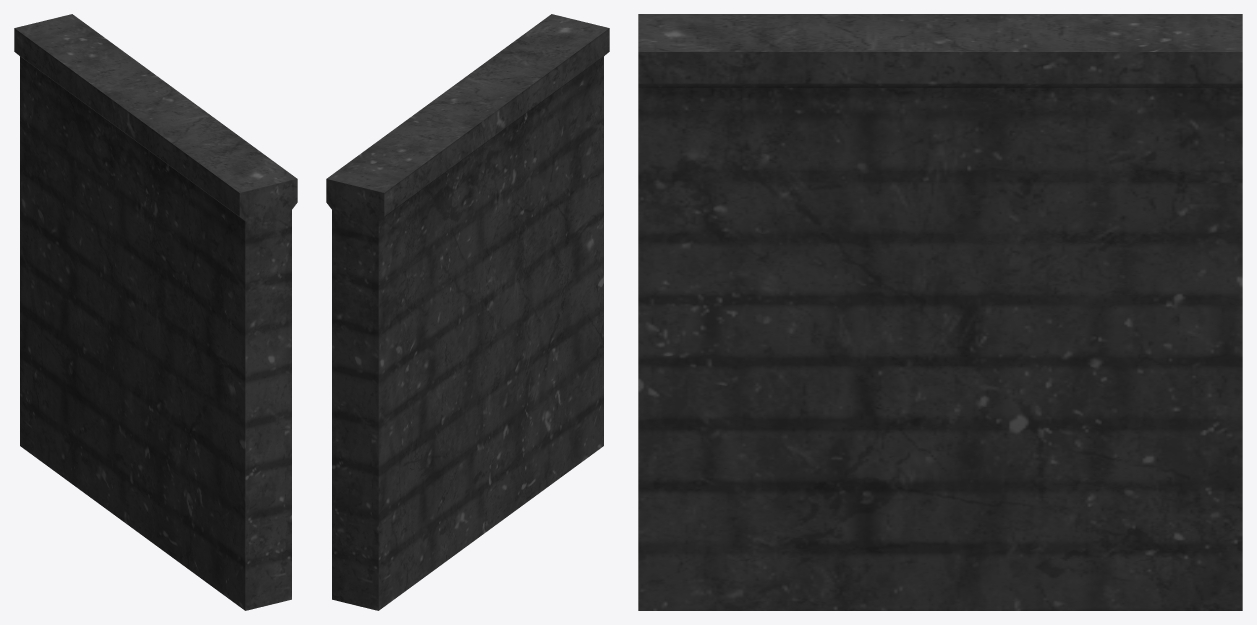
Rendered from Extra_vägg_ensam.fbx.
The picture shows the model from 3 angles, left to right: view 1: azimuth 30°, elevation 25°; view 2: azimuth 150°, elevation 25°; view 3: azimuth 270°, elevation 25°; orthographic projection. The views are drawn at different scales.
Visible parts, largest first — view 1: Short Wall; view 2: Short Wall; view 3: Short Wall.
Part boxes in pixels (x1,y1,x2,y2): Short Wall: [14, 14, 297, 610]; Short Wall: [326, 14, 609, 610]; Short Wall: [638, 14, 1242, 610].
Bounding box in the file's own units: 53.26 × 368 × 359.
1 material, 1 textured.
